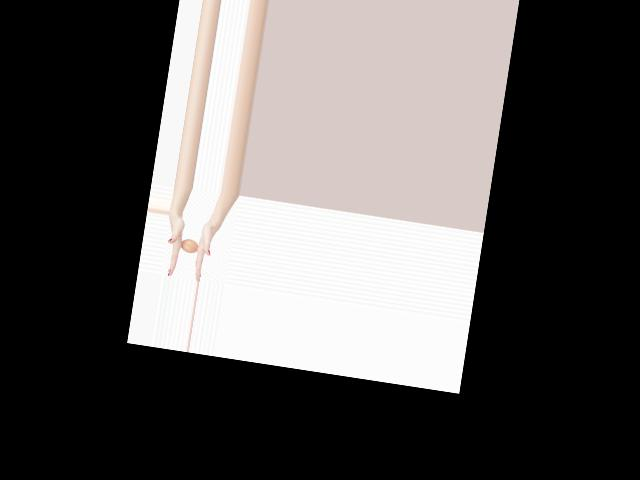egg: (180, 238, 199, 253)
